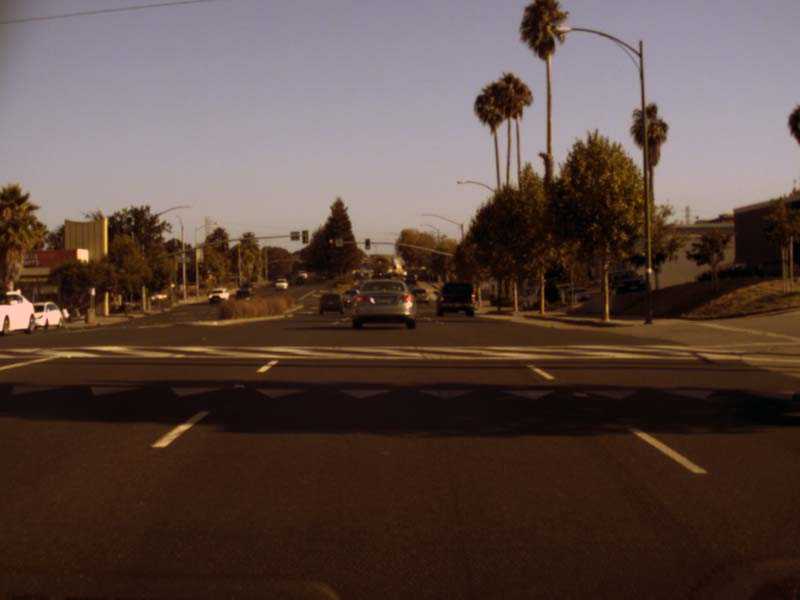Green: (364, 239, 370, 250)
Red: (326, 237, 334, 249)
